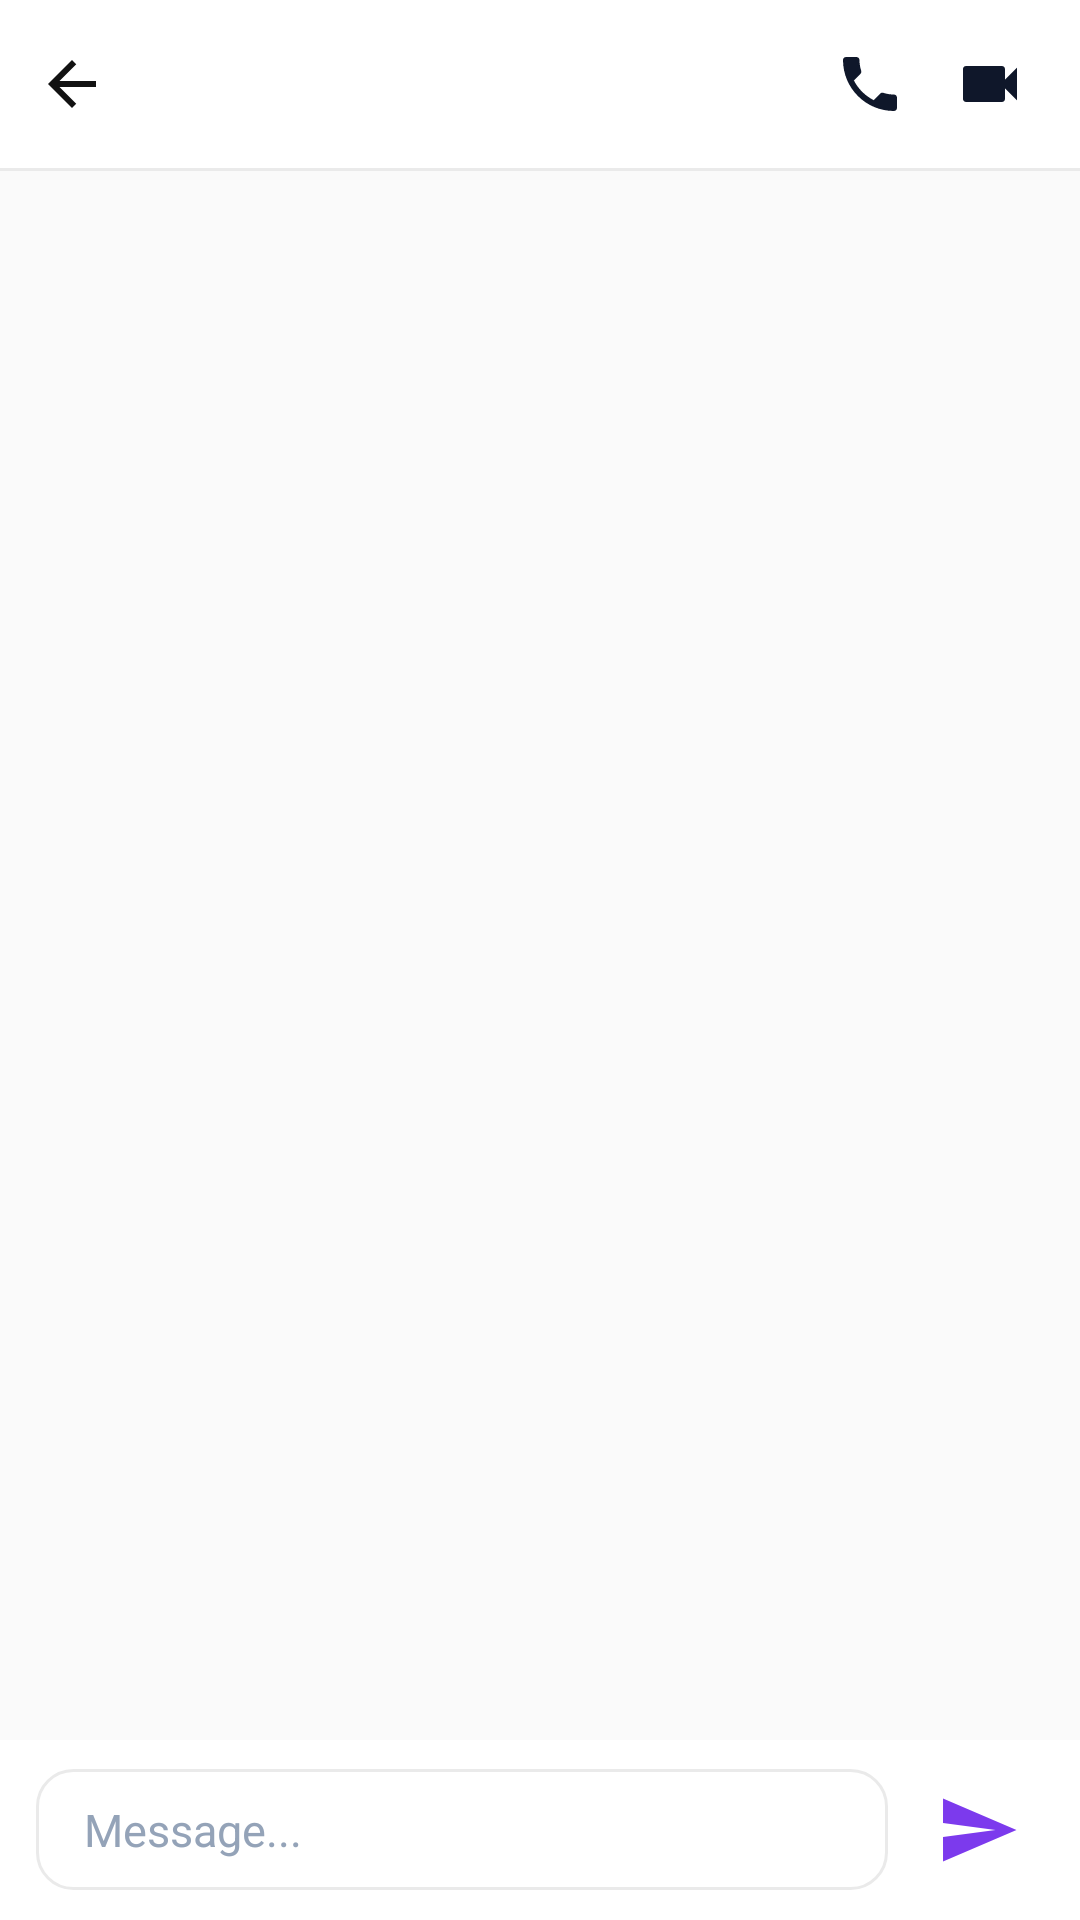

Point at icon controls on the screen. Image size 1080×1920, points as (x,y).
Go Back: (72,84)
phone: (870,84)
send: (979,1830)
videocam: (990,84)
